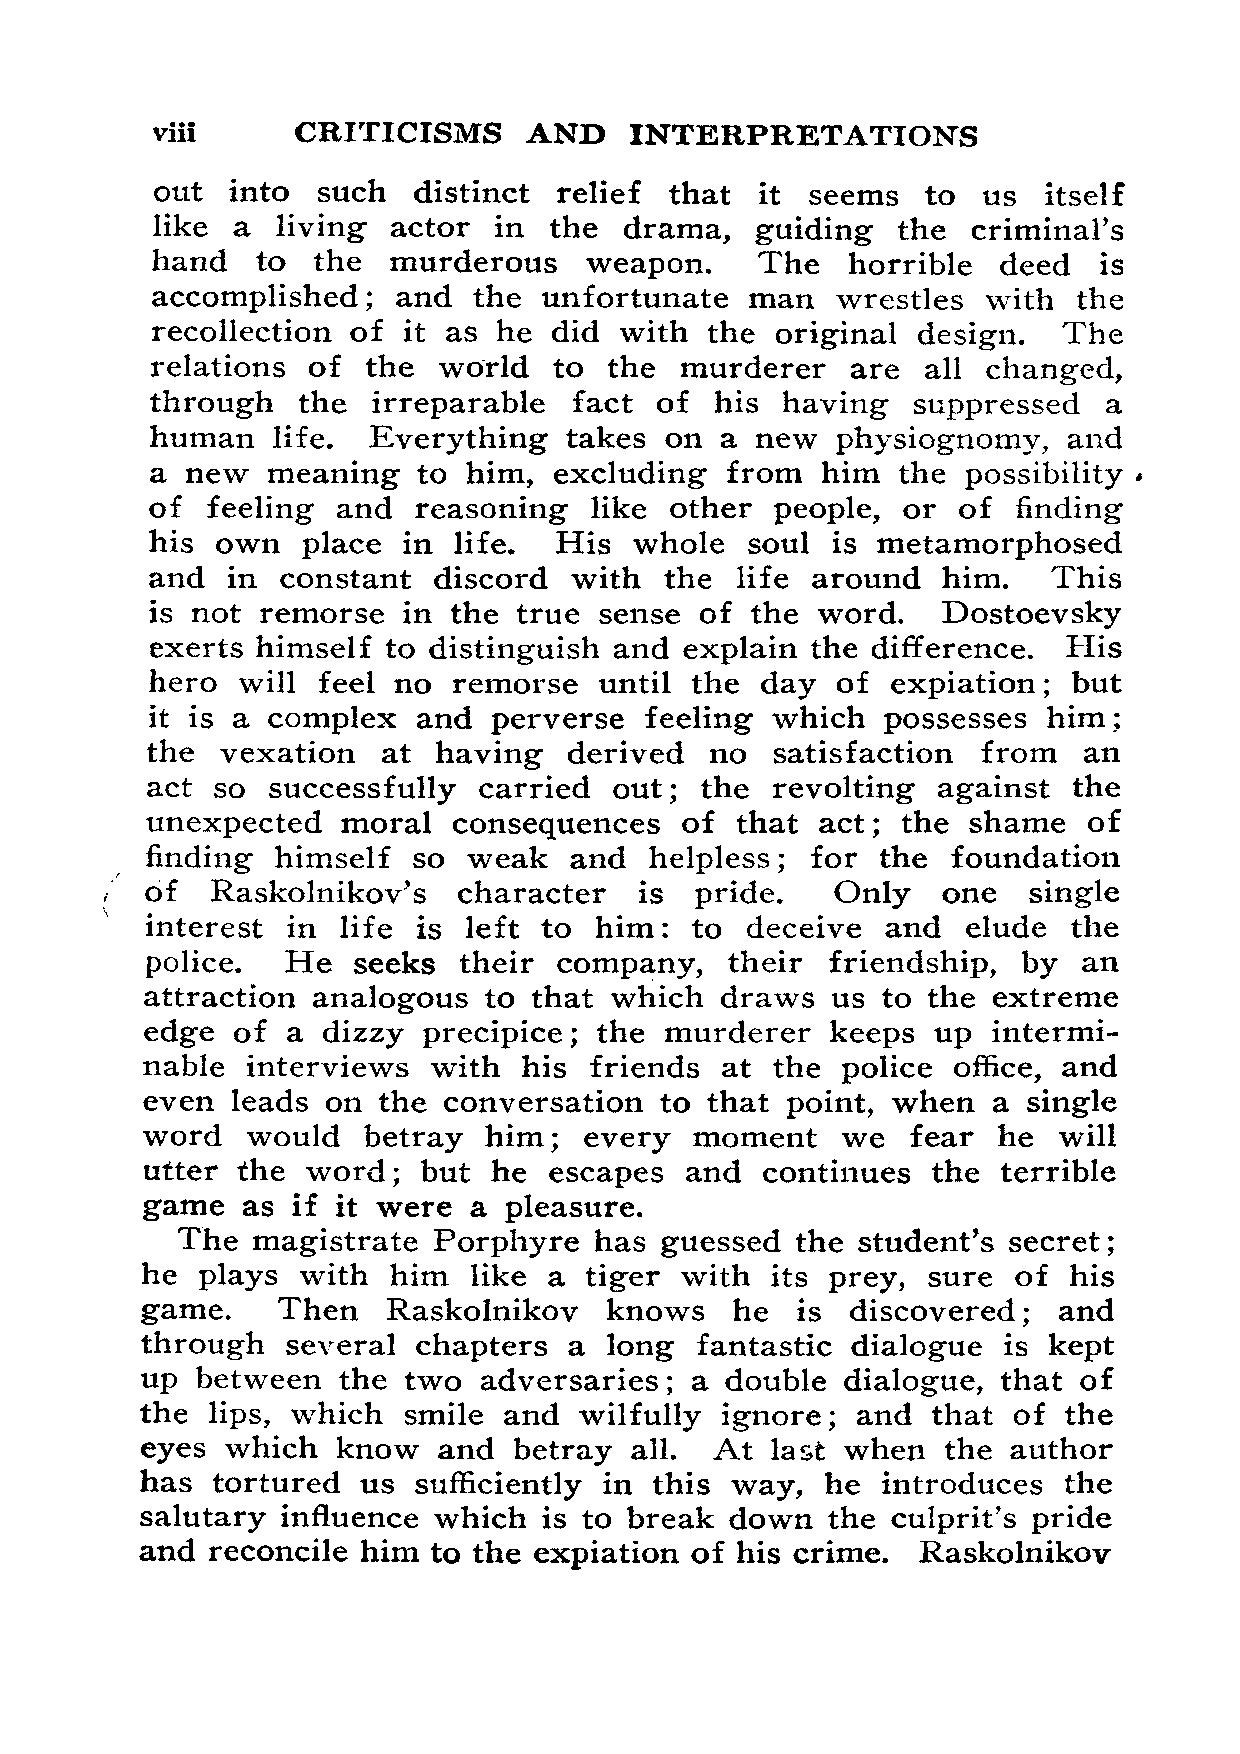content: (137, 174, 1127, 1567)
content_chapter: (293, 115, 977, 152)
content_pagenumber: (148, 111, 201, 146)
